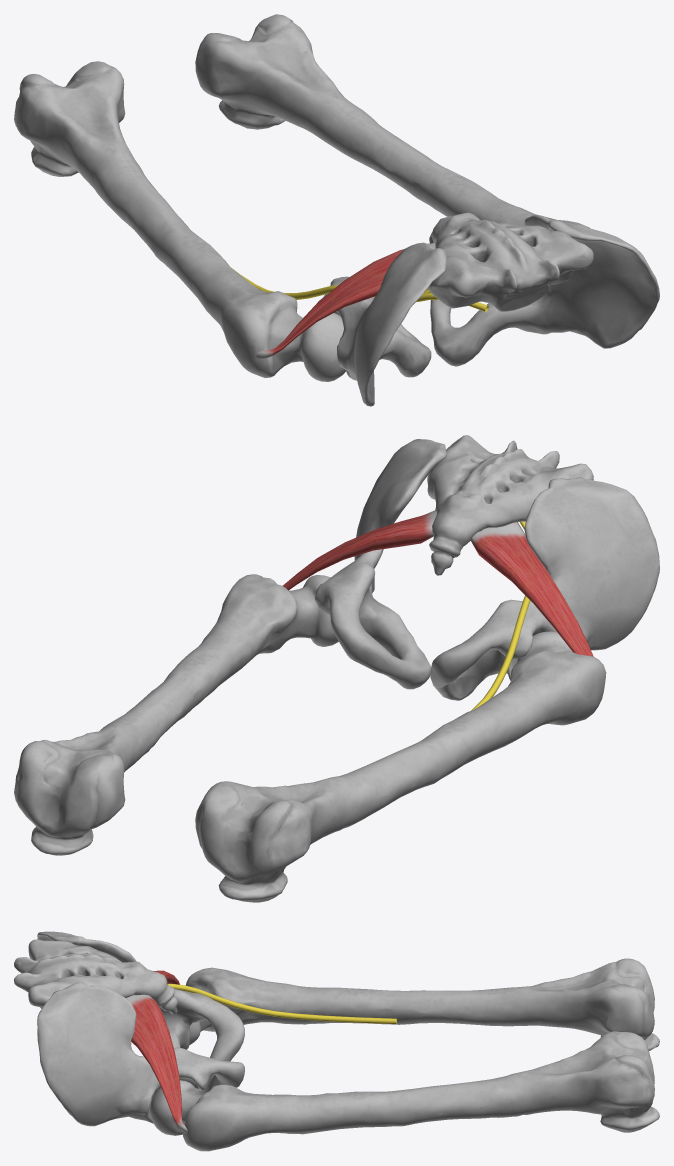
Rendered from Piriformis.glb.
3 renders of one model, top to bottom at view 1: azimuth 30°, elevation 25°; view 2: azimuth 150°, elevation 25°; view 3: azimuth 270°, elevation 25°, orthographic. The views are drawn at different scales.
Visible parts, largest first — view 1: Femur RIght, Femur Left, HipBone Left, Sacrum and Coccyx, HipBone Right, Piriformis Right, Sciatic Nerve; view 2: Femur RIght, Femur Left, HipBone Right, HipBone Left, Sacrum and Coccyx, Piriformis Right, Piriformis Left, Sciatic Nerve; view 3: Femur Left, Femur RIght, HipBone Left, Sacrum and Coccyx, HipBone Right, Piriformis Left, Sciatic Nerve.
Boxes of the visible parts, left/top/right/bottom form: Femur RIght: left=14, top=61, right=346, bottom=381; Femur Left: left=195, top=14, right=590, bottom=228; HipBone Left: left=430, top=215, right=659, bottom=366; Sacrum and Coccyx: left=427, top=212, right=593, bottom=311; HipBone Right: left=317, top=242, right=446, bottom=406; Piriformis Right: left=256, top=243, right=435, bottom=359; Sciatic Nerve: left=232, top=268, right=488, bottom=311; Femur RIght: left=195, top=631, right=606, bottom=902; Femur Left: left=14, top=574, right=338, bottom=855; HipBone Right: left=430, top=477, right=659, bottom=700; HipBone Left: left=315, top=439, right=446, bottom=689; Sacrum and Coccyx: left=427, top=435, right=593, bottom=575; Piriformis Right: left=470, top=522, right=593, bottom=656; Piriformis Left: left=283, top=510, right=436, bottom=590; Sciatic Nerve: left=471, top=521, right=530, bottom=710; Femur Left: left=150, top=1031, right=659, bottom=1151; Femur RIght: left=185, top=958, right=659, bottom=1050; HipBone Left: left=37, top=982, right=244, bottom=1126; Sacrum and Coccyx: left=14, top=939, right=177, bottom=1014; HipBone Right: left=37, top=931, right=244, bottom=1079; Piriformis Left: left=126, top=994, right=187, bottom=1133; Sciatic Nerve: left=167, top=983, right=396, bottom=1024.
Size of the model in its own units: 1.28 by 0.6391 by 2.45.
1 material, 1 textured.
